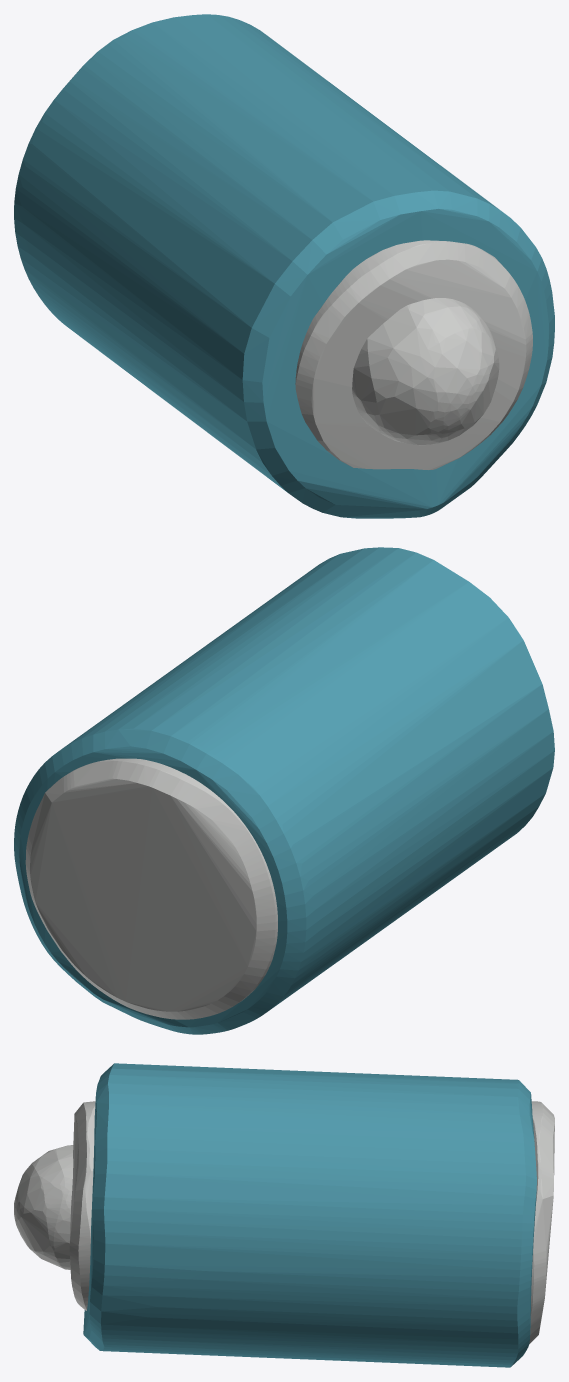
File: battery.glb
3 views of the same model, one above another, from view 1: azimuth 30°, elevation 25°; view 2: azimuth 150°, elevation 25°; view 3: azimuth 270°, elevation 25° (orthographic). The views are drawn at different scales.
Visible parts, largest first — view 1: Object_4.001; view 2: Object_4.001; view 3: Object_4.001.
Boxes of the visible parts, bbox=[...] form: Object_4.001: bbox=[14, 14, 554, 518]; Object_4.001: bbox=[14, 547, 554, 1034]; Object_4.001: bbox=[14, 1063, 554, 1367].
Bounding box in the file's own units: 0.1627 × 0.1599 × 0.2897.
